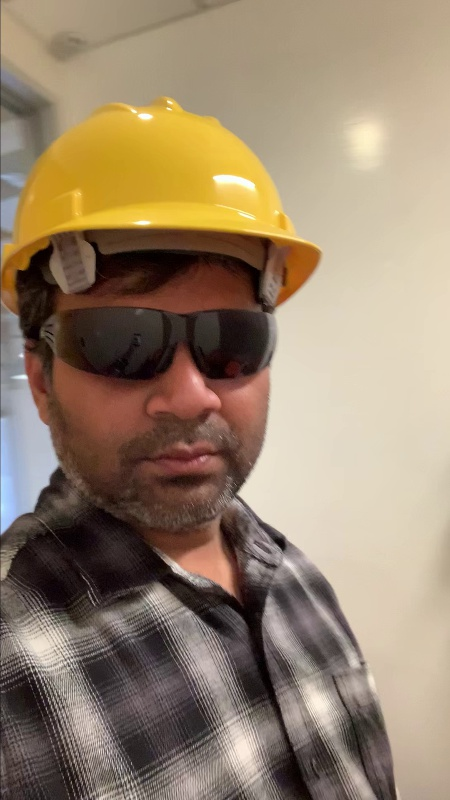glasses: (44, 302, 276, 378)
helmet: (15, 95, 299, 235)
